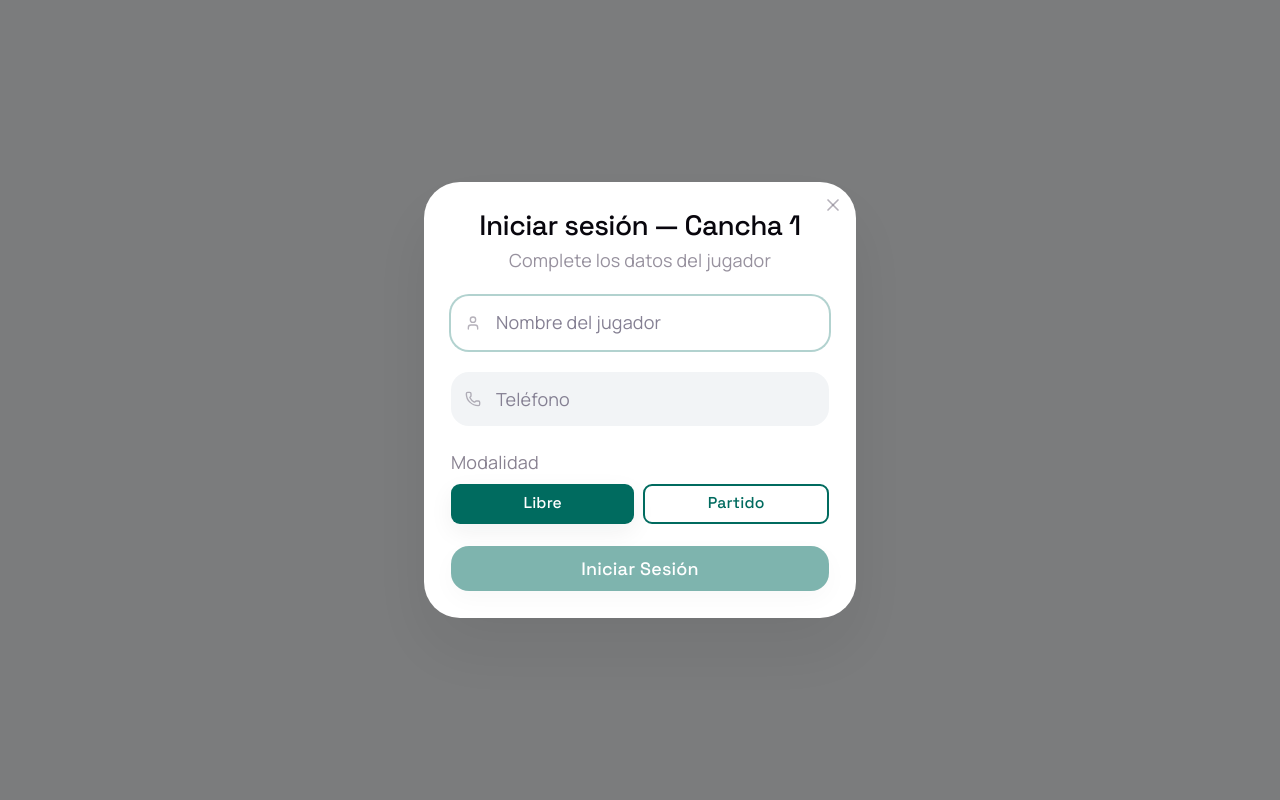
Test: AdminOccupyModal (Phase 6.1) › submit button is enabled when name and phone are filled
Type "Juan" into the field with placeholder "Nombre del jugador" at x=640, y=322, box [451,296,829,350]
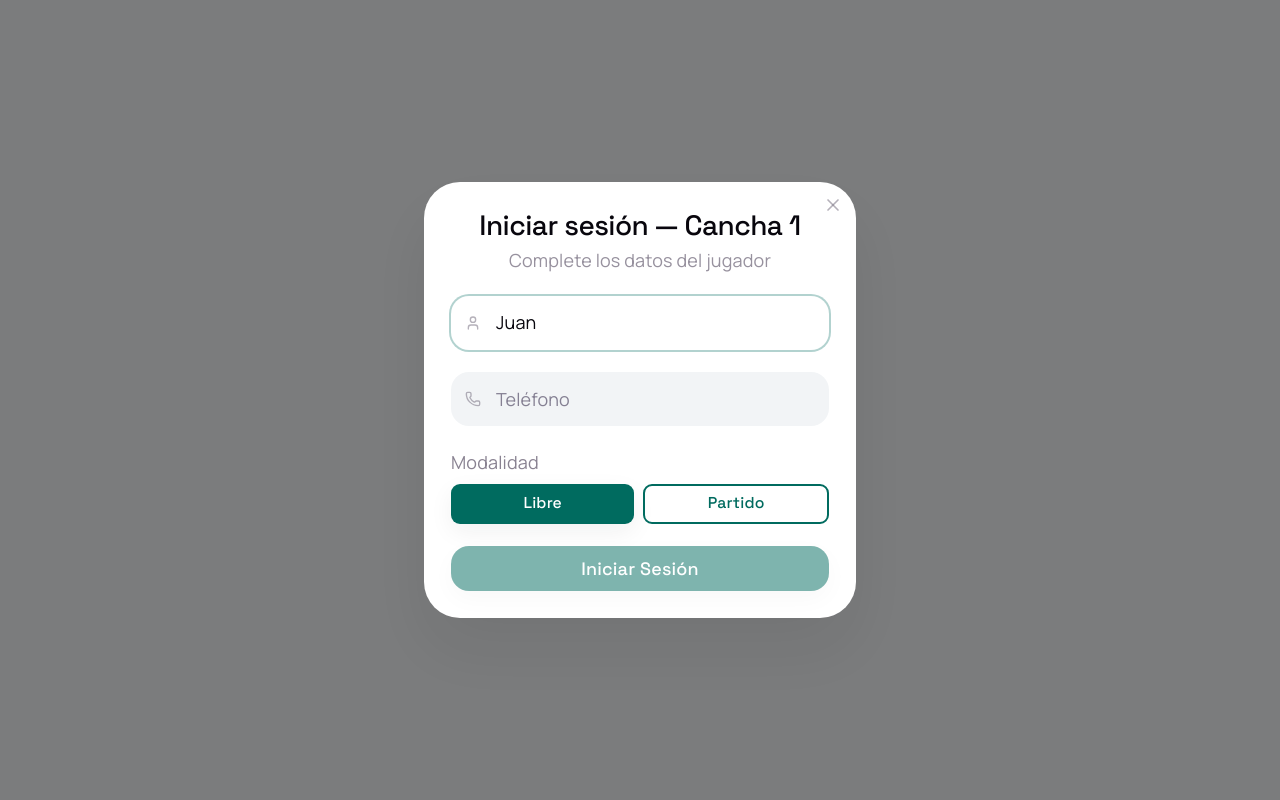
Type "1155550000" into the field with placeholder "Teléfono" at x=640, y=399, box [451,372,829,426]
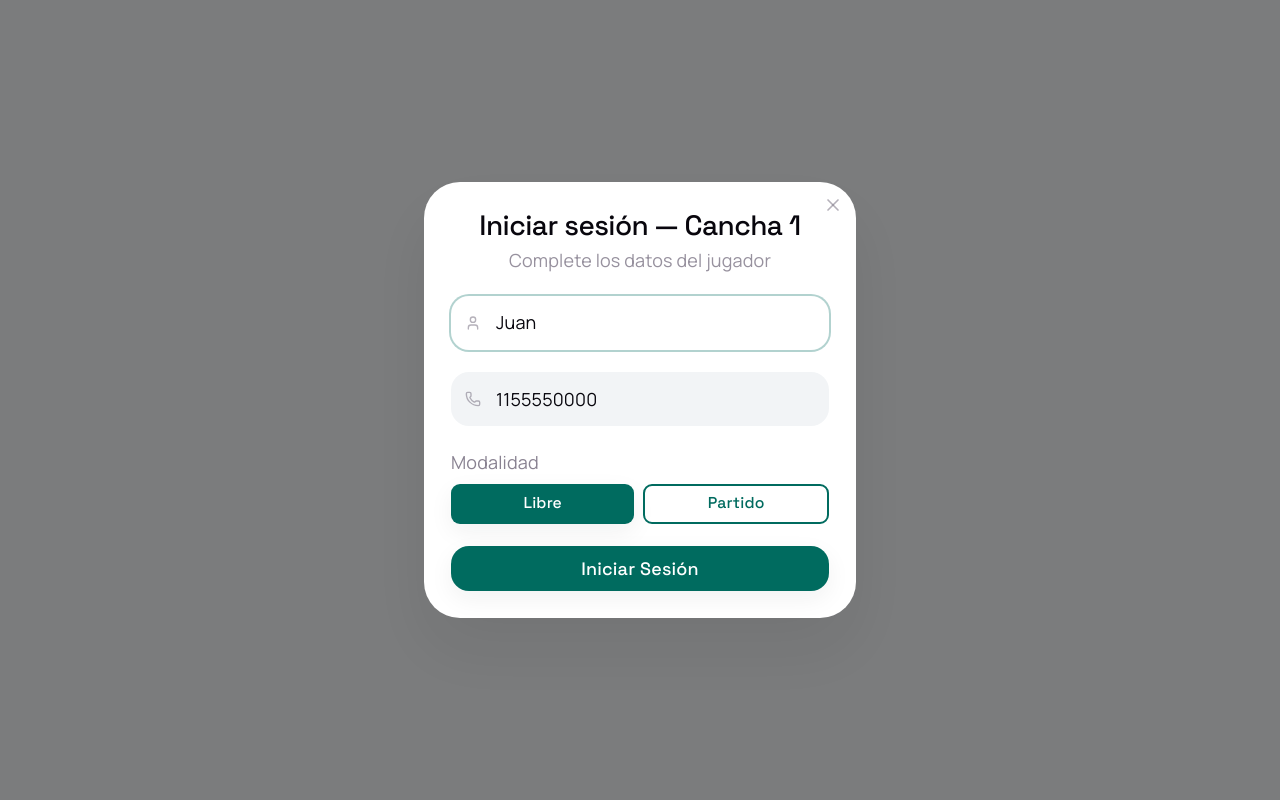
Expected: the button "Iniciar Sesión" is enabled, [451,546,829,591]
